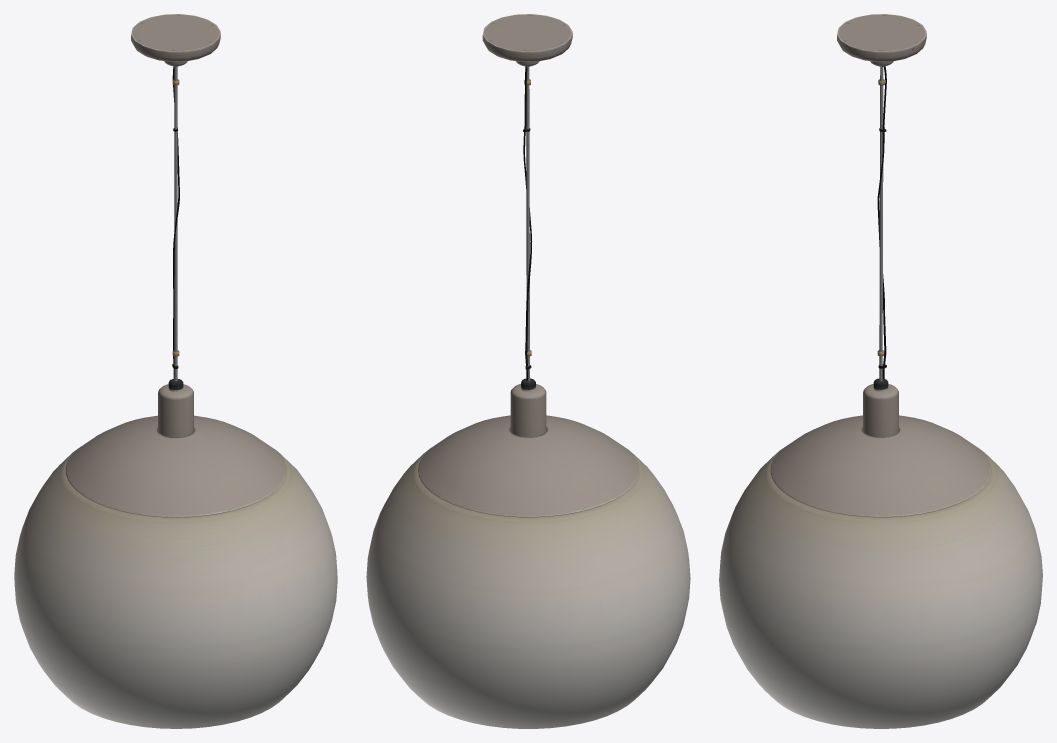
Rendered from ceiling-globe.glb.
3 renders of one model, left to right at view 1: azimuth 30°, elevation 25°; view 2: azimuth 150°, elevation 25°; view 3: azimuth 270°, elevation 25°, orthographic.
Visible parts, largest first — view 1: modern_ceiling_lamp_01; view 2: modern_ceiling_lamp_01; view 3: modern_ceiling_lamp_01.
Boxes of the visible parts, x1,y1,x2,y2 form: modern_ceiling_lamp_01: (14,14,337,728); modern_ceiling_lamp_01: (366,14,690,728); modern_ceiling_lamp_01: (719,14,1042,728).
Size of the model in its own units: 0.4317 by 0.9516 by 0.4317.
Materials: 2 (2 with a texture image).
